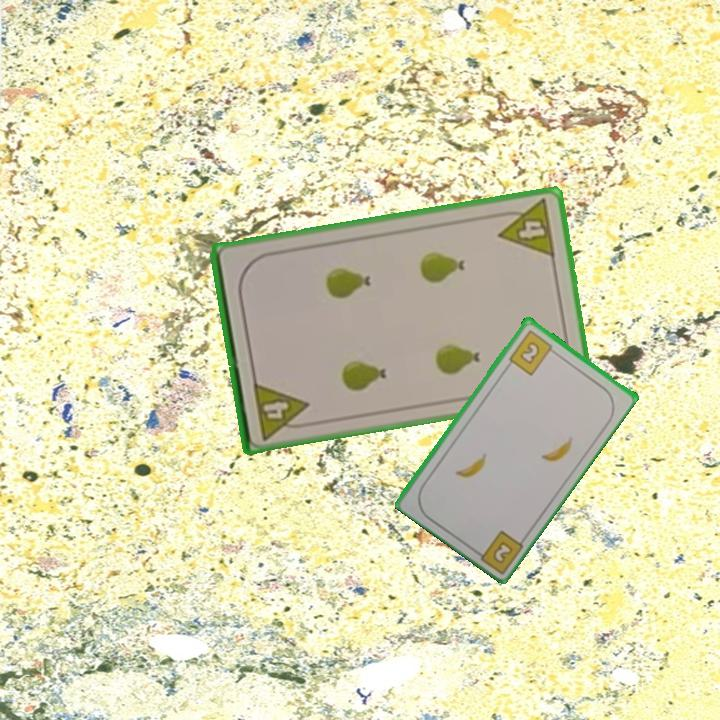2b: (505, 326, 559, 378), (489, 537, 516, 566)
4p: (492, 195, 558, 260), (249, 378, 314, 443)
